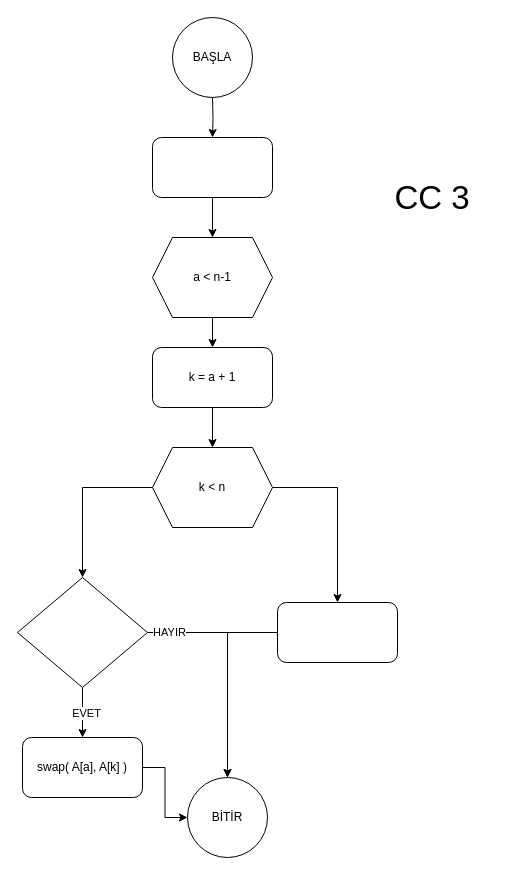
Image size: 515x875. Some labels were removed from this diagram. The shapes that lost their labels are listed below. From the top down, each one's centre as x and y in pixels, then its label:
At pixel 212 167: "a = 0, n=5".
At pixel 82 632: "A[a] < A[k]".
At pixel 337 632: "a = a + 1".
